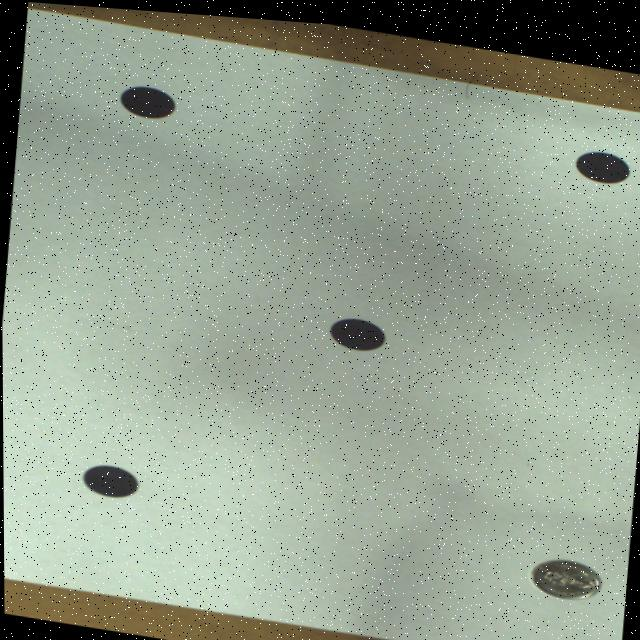space: (327, 312, 384, 345), (119, 84, 175, 116), (574, 142, 628, 174), (83, 463, 136, 495)
tail1bath: (529, 550, 599, 590)
